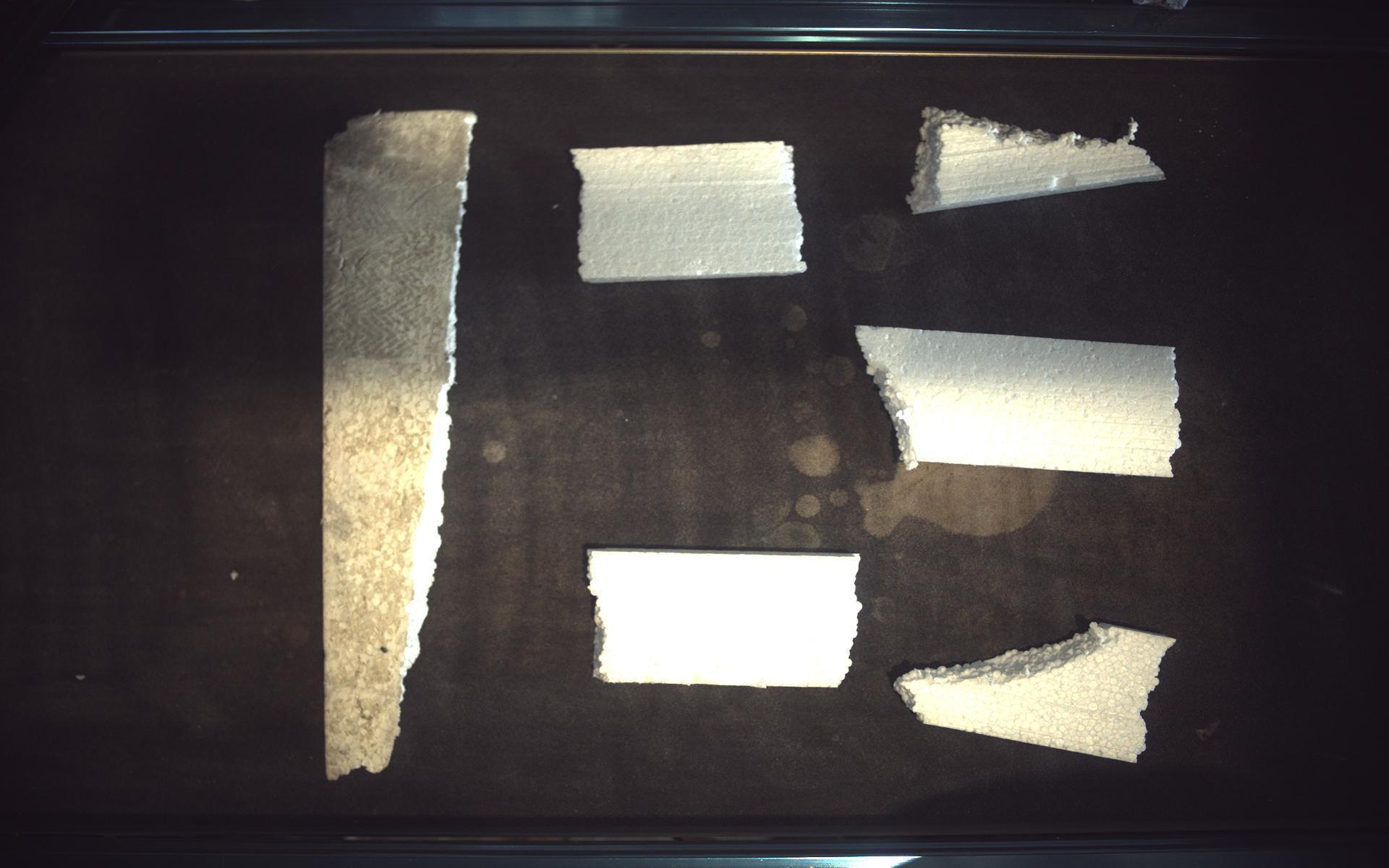foam: (322, 111, 475, 780), (858, 327, 1184, 477), (896, 623, 1178, 764), (588, 548, 863, 689), (574, 140, 807, 282), (909, 106, 1168, 213)
